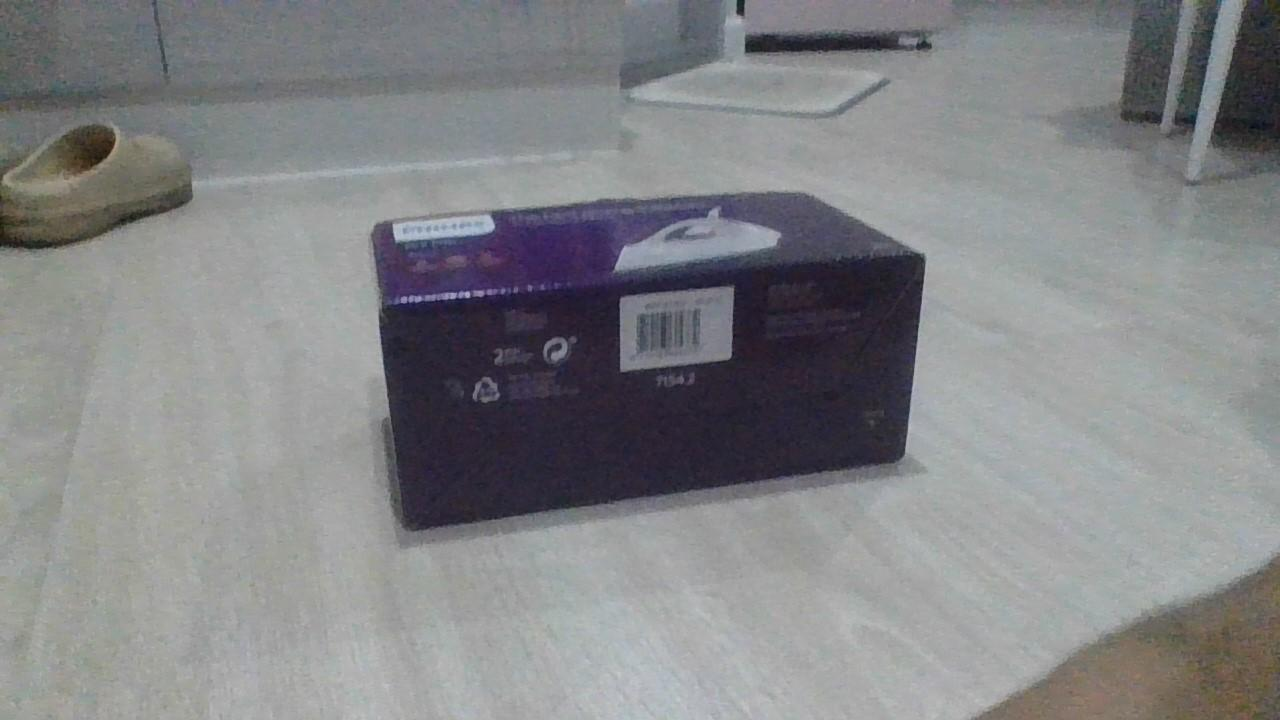IRON: (365, 186, 930, 536)
